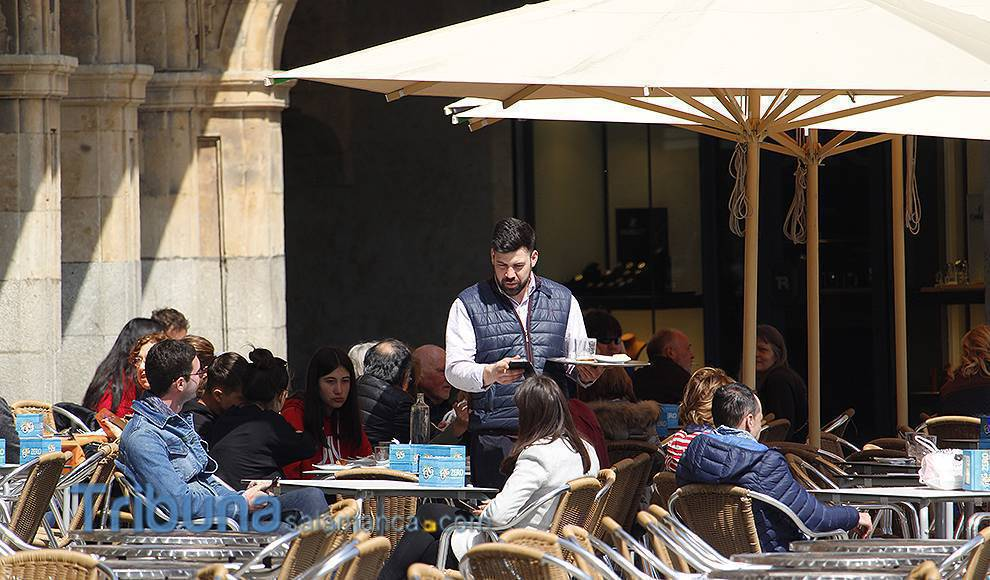person: (452, 244, 597, 406), (131, 346, 244, 513), (294, 356, 381, 491)
